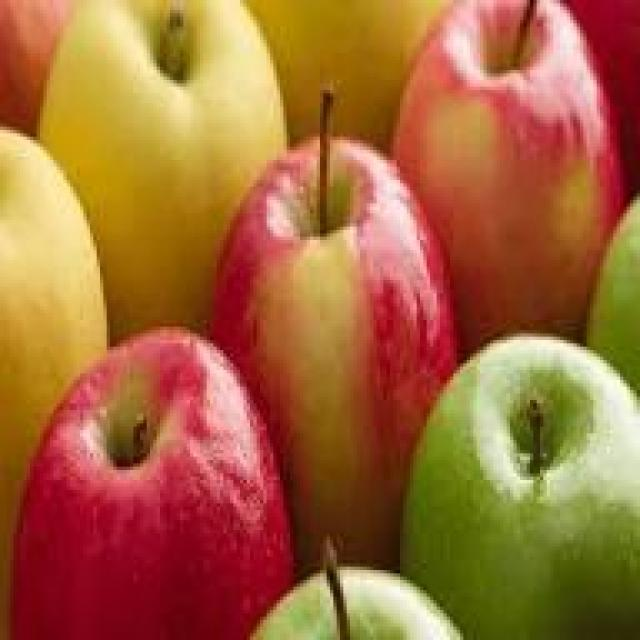apple: (207, 130, 463, 543), (33, 306, 280, 636), (43, 6, 297, 316), (410, 310, 637, 630), (410, 16, 620, 346)
